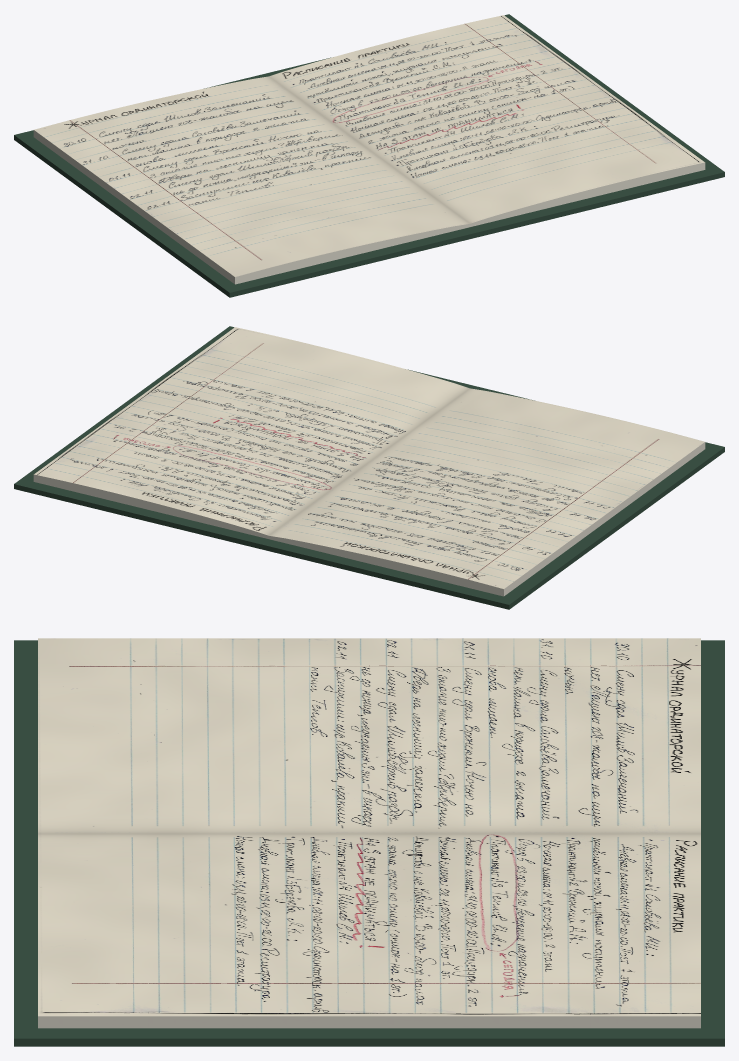
Rendered from Journal_Open.fbx.
3 renders of one model, top to bottom at view 1: azimuth 30°, elevation 25°; view 2: azimuth 150°, elevation 25°; view 3: azimuth 270°, elevation 25°, orthographic. The views are drawn at different scales.
Visible parts, largest first — view 1: Journal_Open; view 2: Journal_Open; view 3: Journal_Open.
Part boxes in pixels (left/top/right/bottom): Journal_Open: left=14, top=14, right=724, bottom=297; Journal_Open: left=14, top=326, right=724, bottom=609; Journal_Open: left=14, top=638, right=724, bottom=1046.
Size of the model in its own units: 0.316 by 0.00825 by 0.2385.
3 materials, 1 textured.
